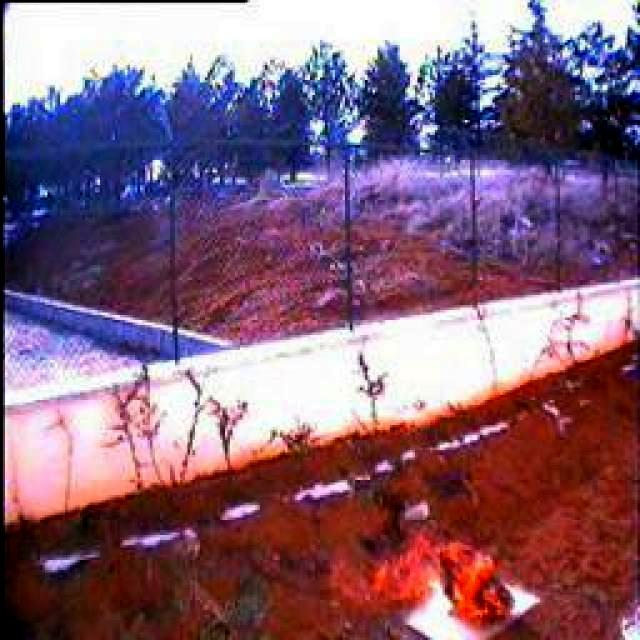fire: (353, 526, 517, 630)
